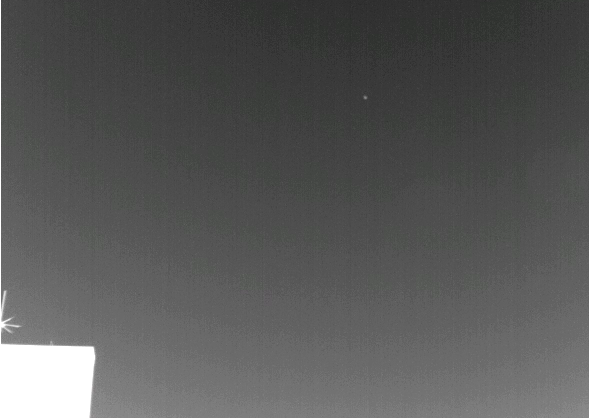dim target: (361, 95, 369, 100)
